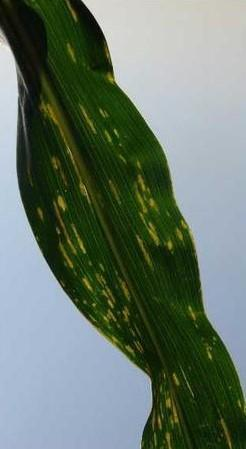Corn_Blight: (6, 52, 170, 361), (178, 199, 240, 445), (136, 374, 176, 443)
